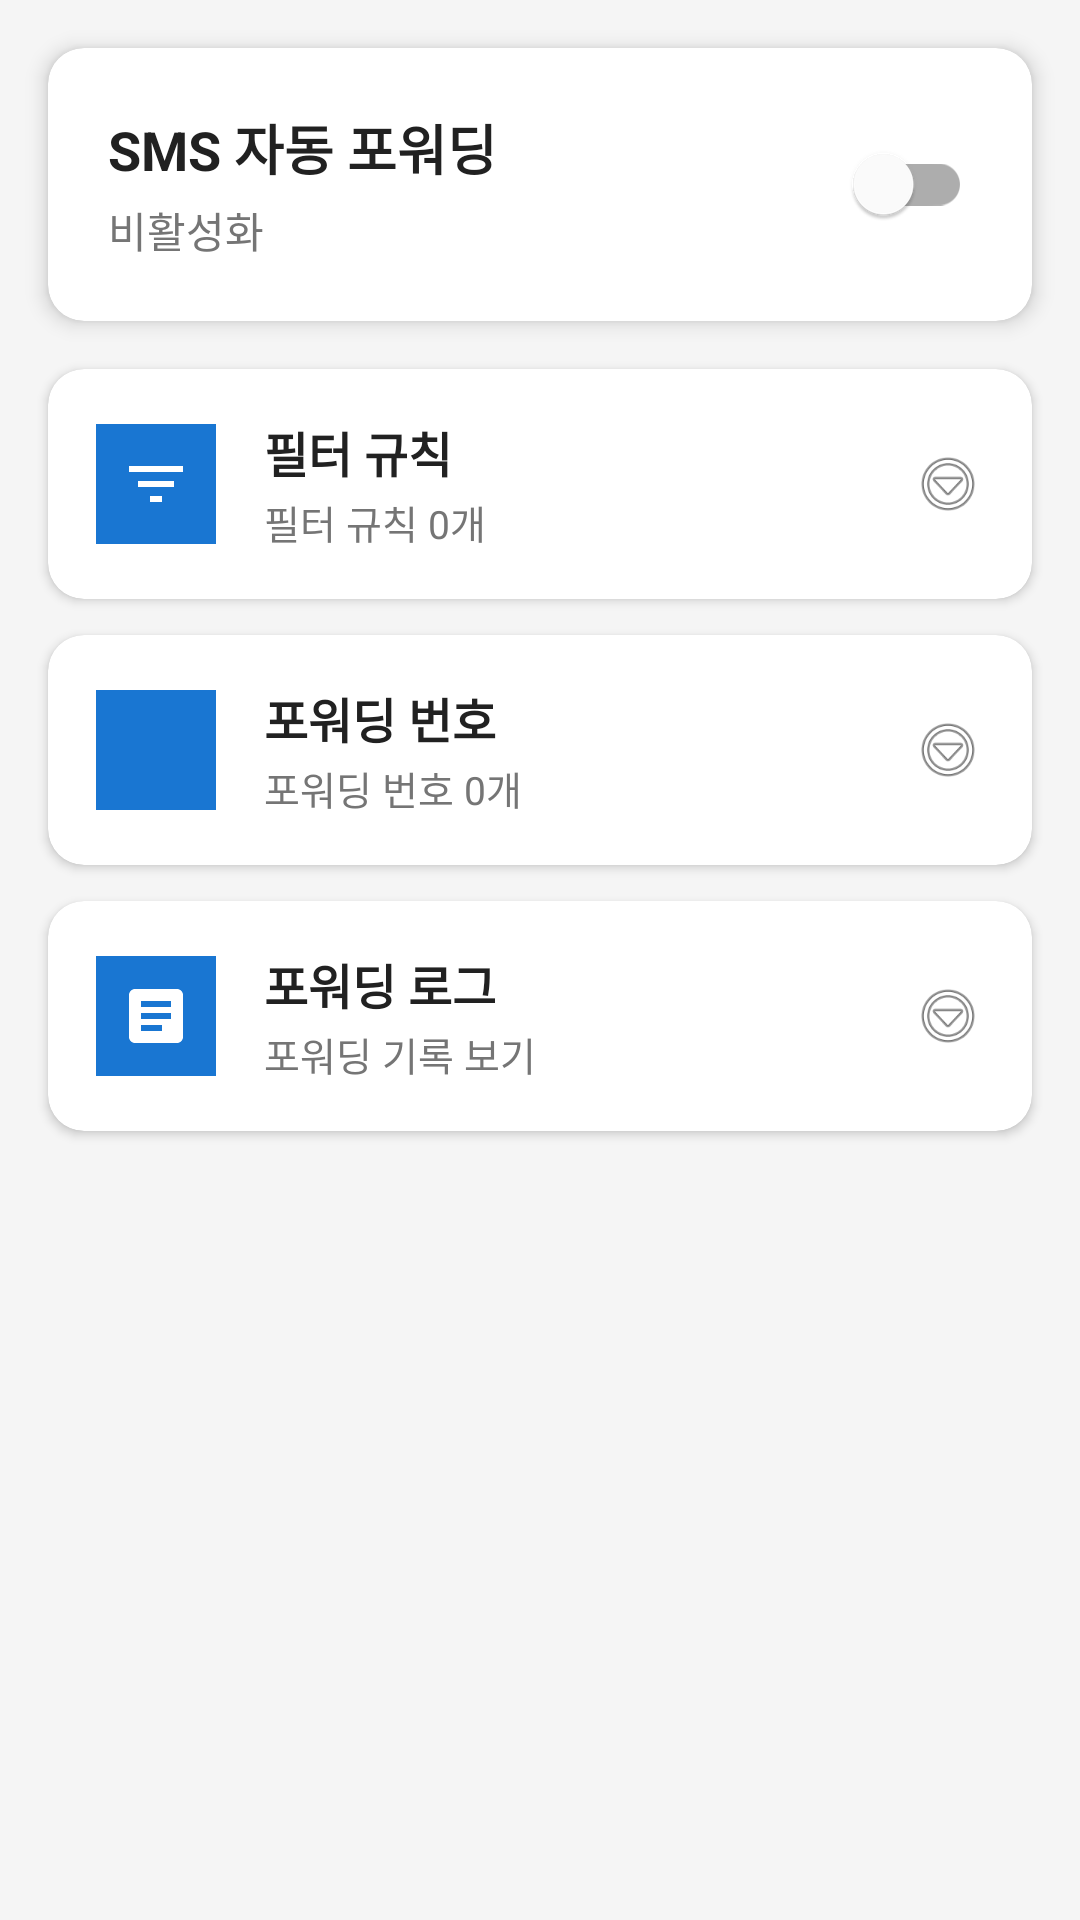

Named icons in this screenshot (1080×1920) and their centers, point (x, y):
filter: point (156, 484)
log: point (156, 1016)
더보기: point (948, 484), point (948, 750), point (948, 1016)
